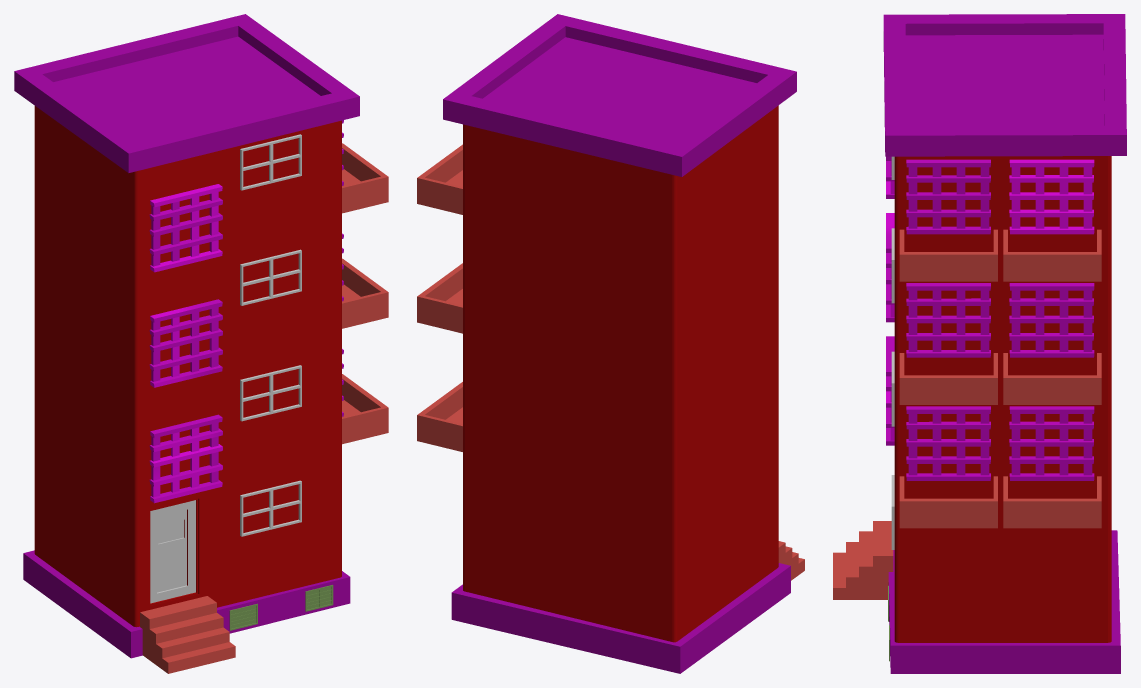
The model's file is House_37.fbx.
3 renders of one model, left to right at view 1: azimuth 30°, elevation 25°; view 2: azimuth 150°, elevation 25°; view 3: azimuth 270°, elevation 25°, orthographic. The views are drawn at different scales.
Visible parts, largest first — view 1: House_37_Body; view 2: House_37_Body; view 3: House_37_Body.
Part boxes in pixels (x1,y1,x2,y2): House_37_Body: (14,14,388,673); House_37_Body: (417,14,804,673); House_37_Body: (833,14,1126,673).
Bounding box in the file's own units: 665 × 1199 × 589.
